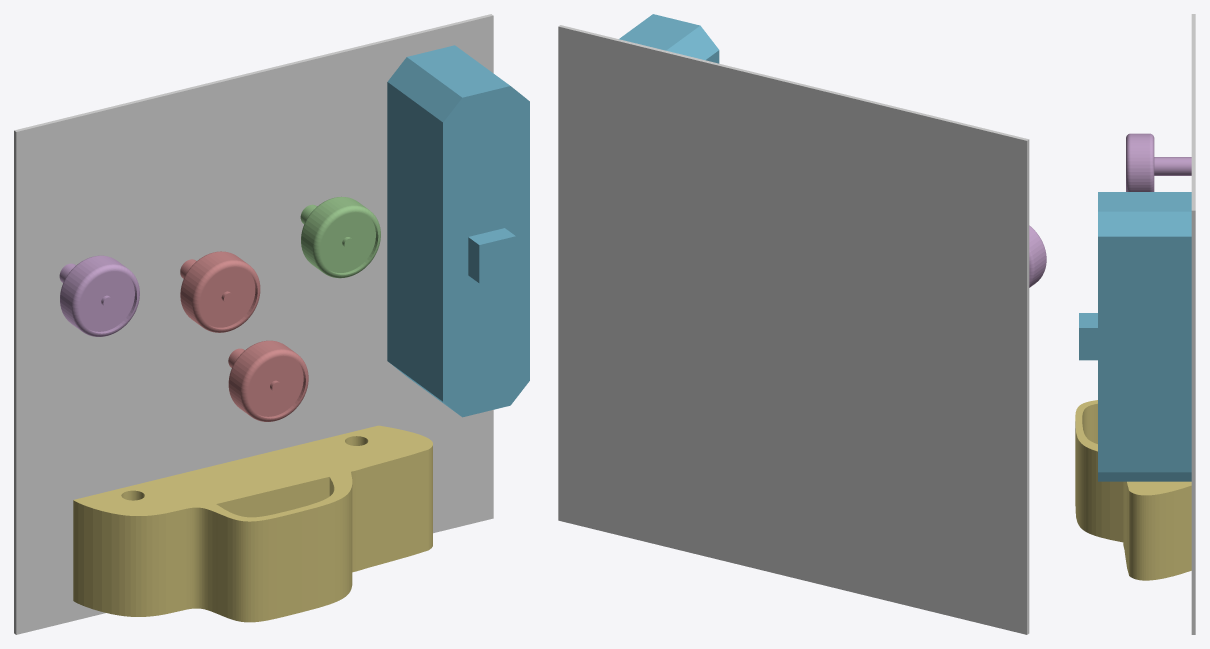
The model's file is pickup_layout.glb.
3 renders of one model, left to right at view 1: azimuth 30°, elevation 25°; view 2: azimuth 150°, elevation 25°; view 3: azimuth 270°, elevation 25°, orthographic. The views are drawn at different scales.
Visible parts, largest first — view 1: world, 1.obj, 2.obj, 0.obj, 5.obj, 4.obj, 3.obj; view 2: world, 2.obj, 3.obj; view 3: 2.obj, 1.obj, world, 3.obj.
Boxes of the visible parts, left/top/right/bottom form: world: left=14, top=14, right=493, bottom=634; 1.obj: left=73, top=425, right=432, bottom=622; 2.obj: left=387, top=45, right=529, bottom=417; 0.obj: left=228, top=340, right=308, bottom=421; 5.obj: left=180, top=251, right=260, bottom=332; 4.obj: left=300, top=196, right=380, bottom=278; 3.obj: left=59, top=255, right=139, bottom=336; world: left=558, top=25, right=1029, bottom=634; 2.obj: left=619, top=14, right=719, bottom=63; 3.obj: left=1029, top=225, right=1046, bottom=287; 2.obj: left=1079, top=192, right=1191, bottom=481; 1.obj: left=1075, top=400, right=1191, bottom=580; world: left=1191, top=14, right=1195, bottom=634; 3.obj: left=1126, top=133, right=1191, bottom=191.
Bounding box in the file's own units: 24.75 × 24.92 × 6.39.
